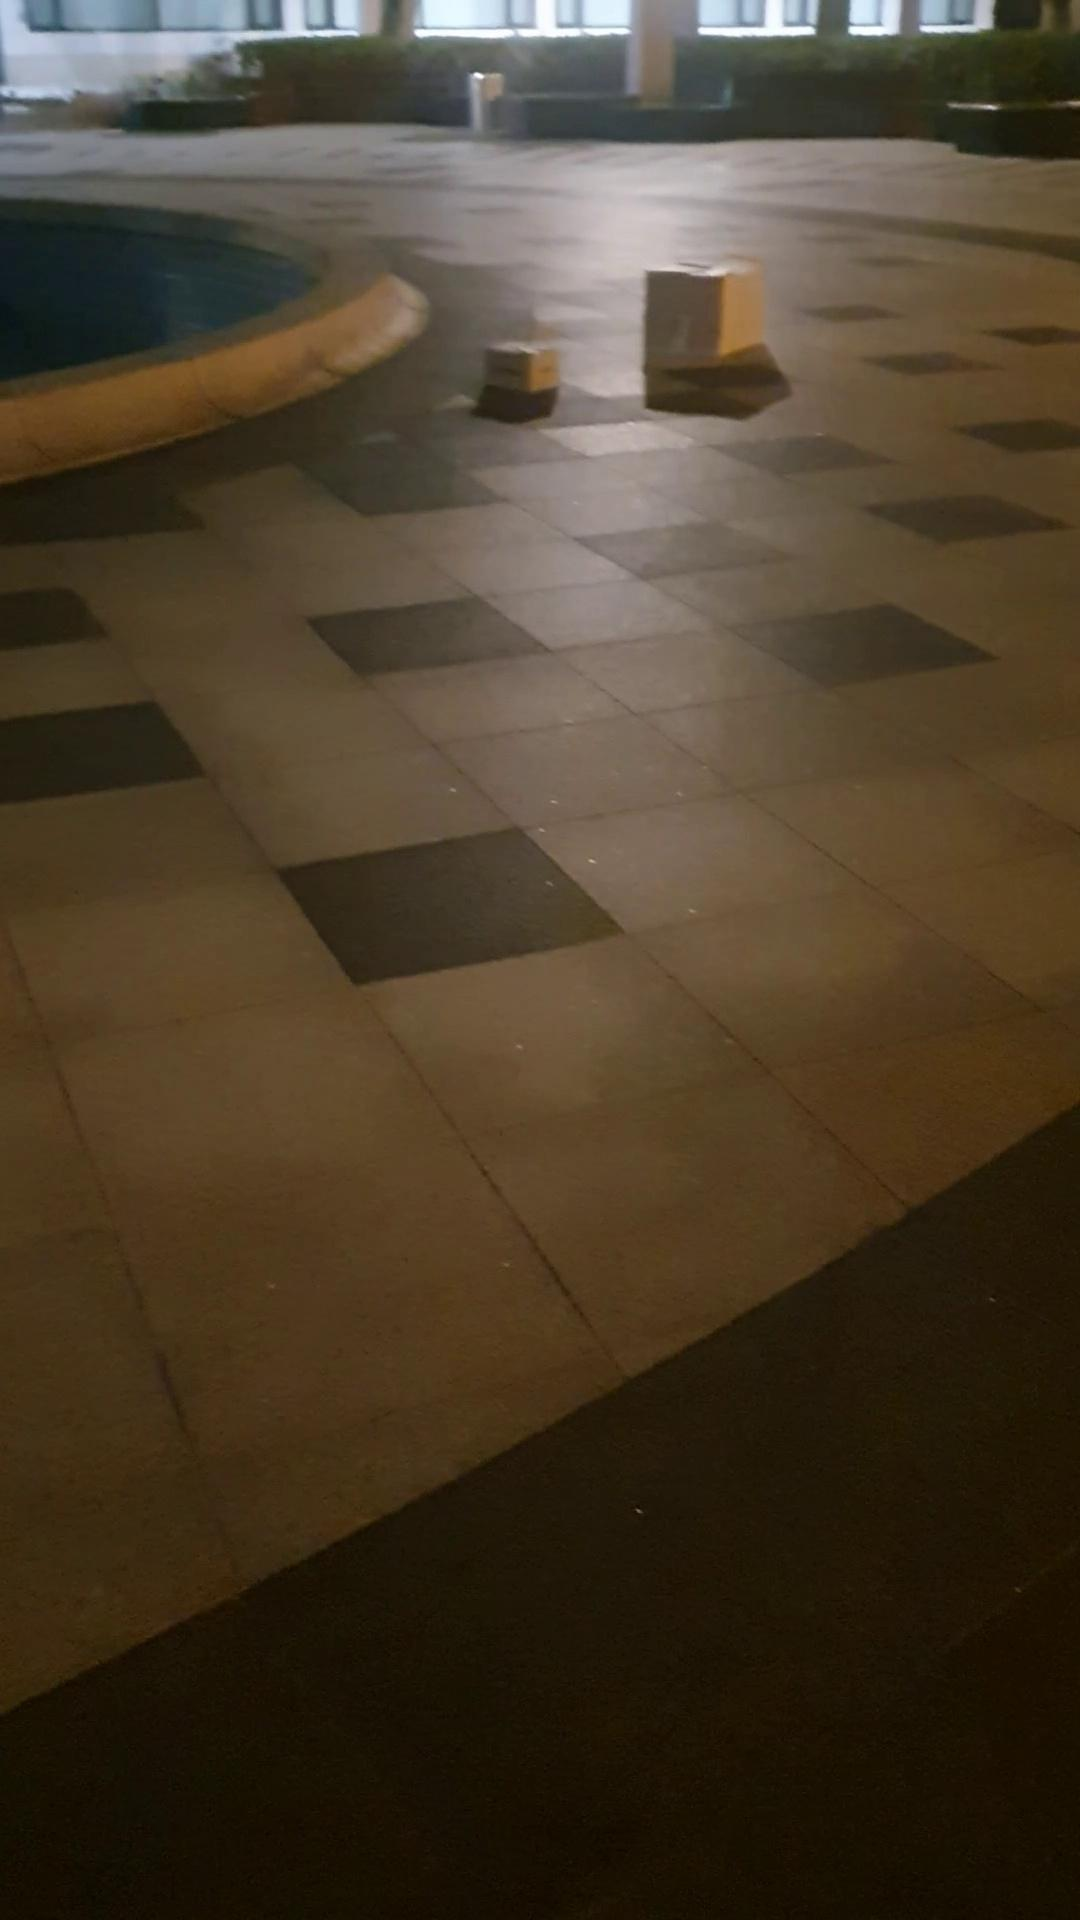Box: (638, 245, 769, 382), (465, 335, 564, 411)
